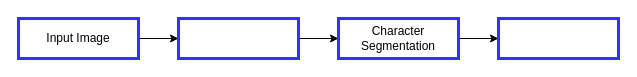
This 637x77 diagram has some shape labels left out. Here are the shapes that lost their labels. From the top down, the centre of each, then its label:
At point 238,38: "License Plate Localization".
At point 558,38: "Character Recognition".
